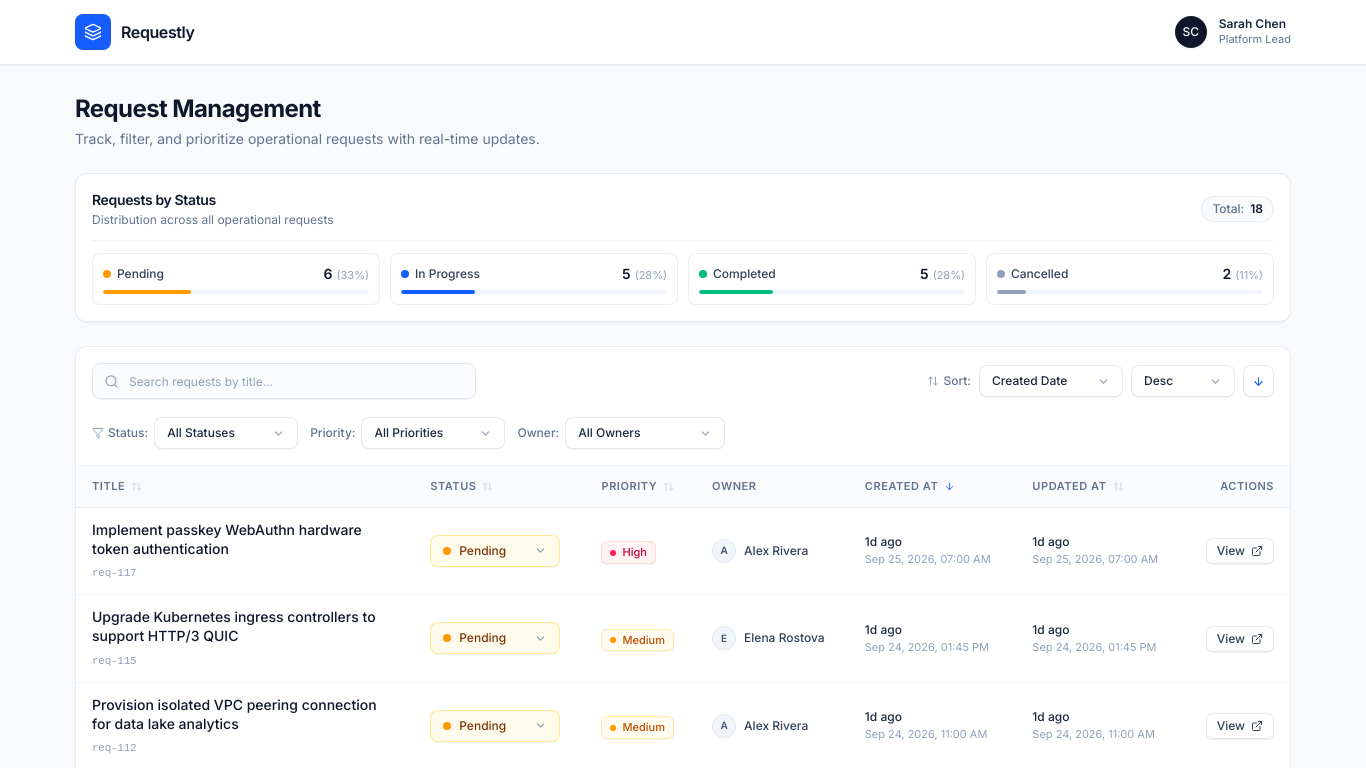
Request Management Dashboard Integration Tests › debounces search input and updates the list
Type "postgres" into the field with test id "search-input".
click(284, 381); type("postgres")  # box [92,363,476,399]
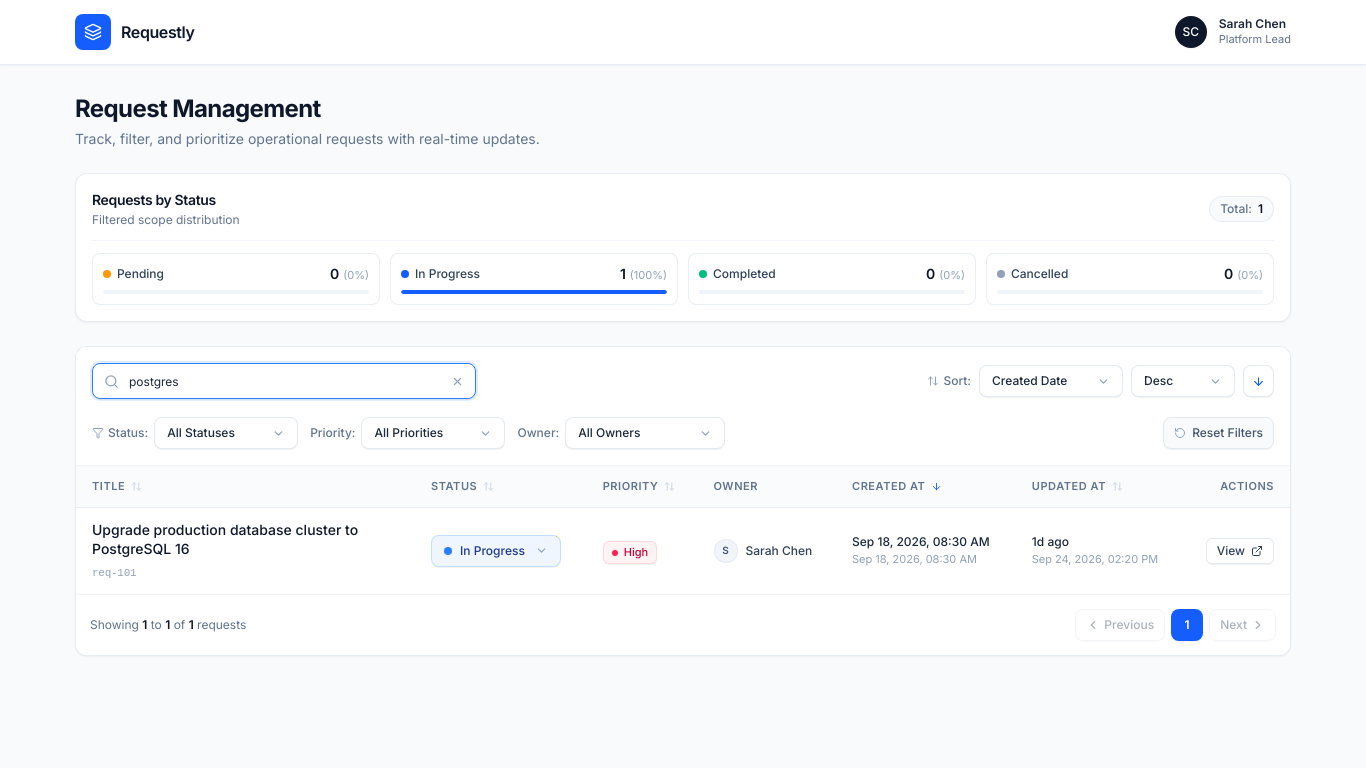
Check: the link "Upgrade production database cluster to PostgreSQL 16" is shown, box [92,520,399,558]
